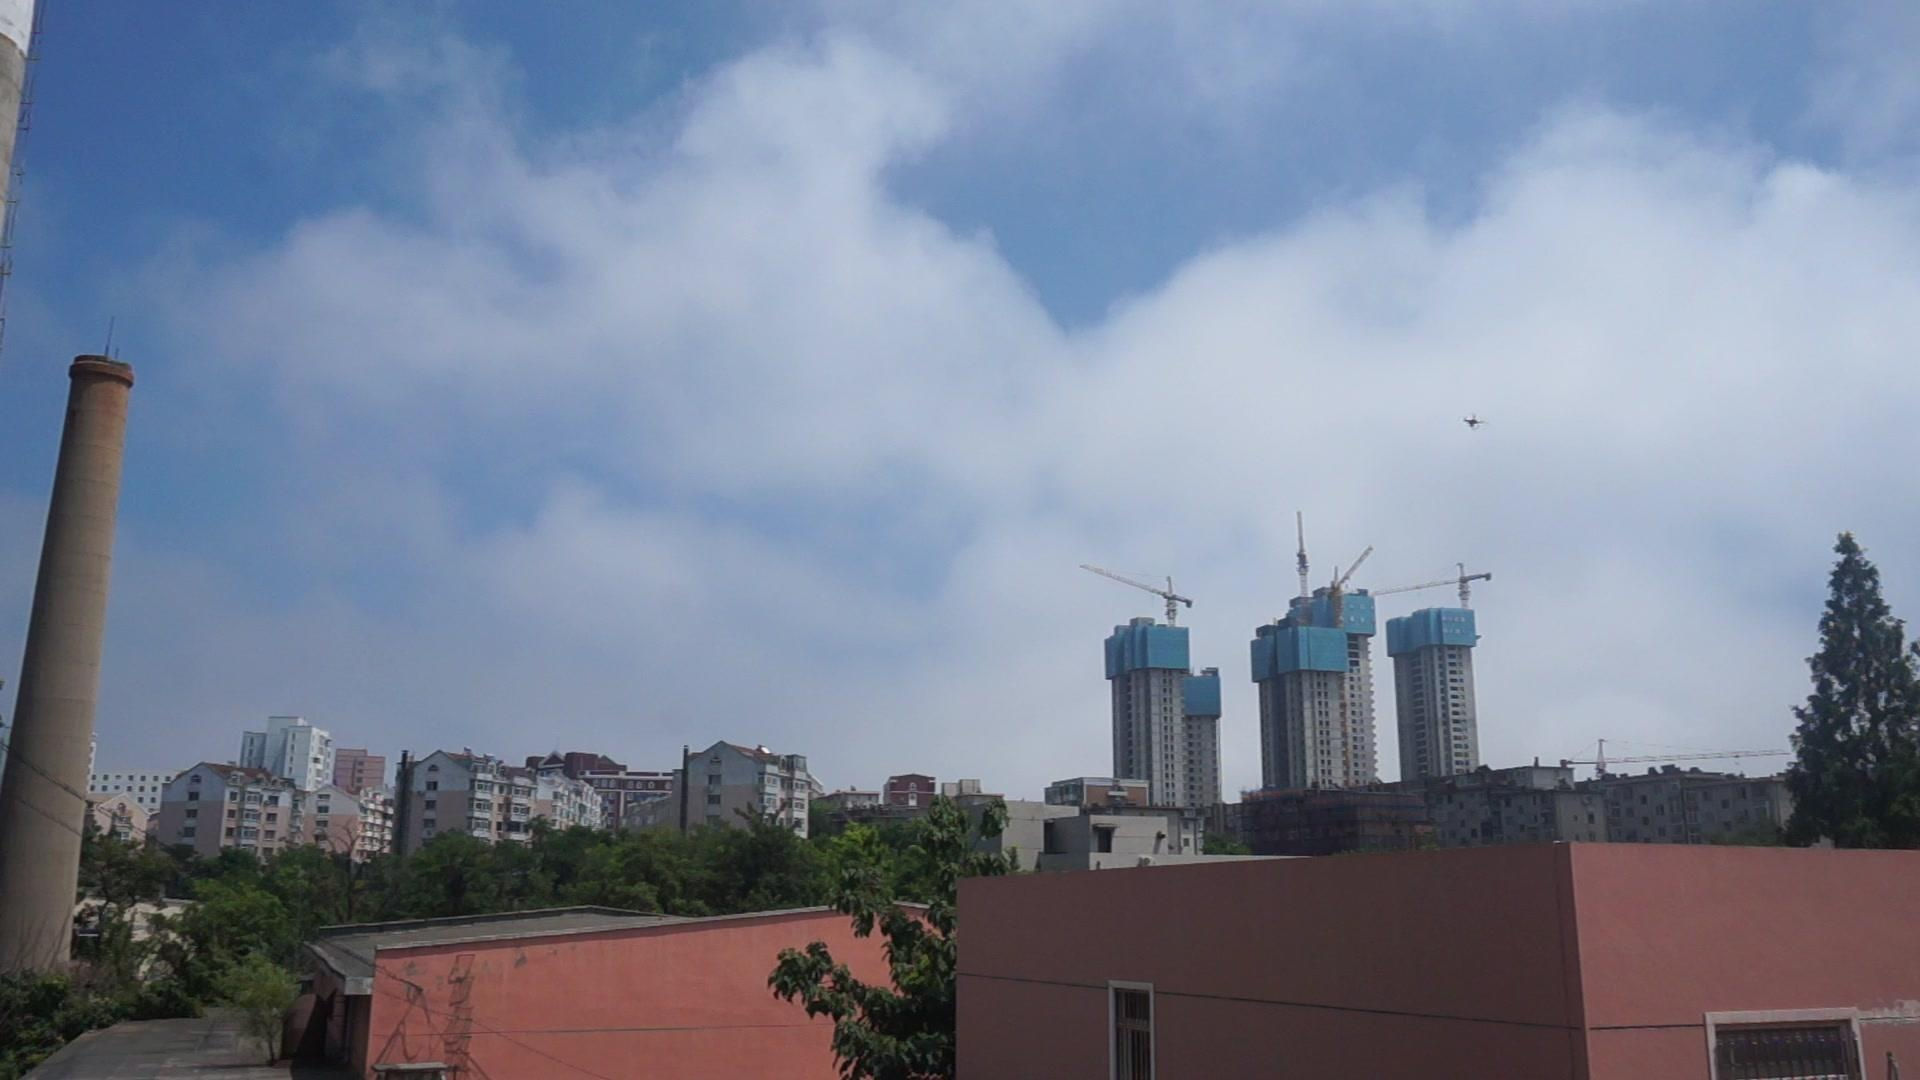UAV: (1462, 414, 1489, 433)
